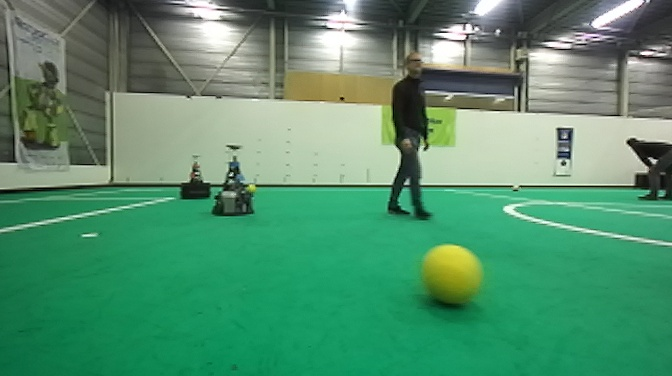ball: (418, 244, 484, 310), (244, 181, 258, 194), (509, 181, 521, 194)
human: (386, 52, 433, 221), (624, 134, 672, 202)
robot: (210, 142, 258, 219), (177, 153, 215, 201)
